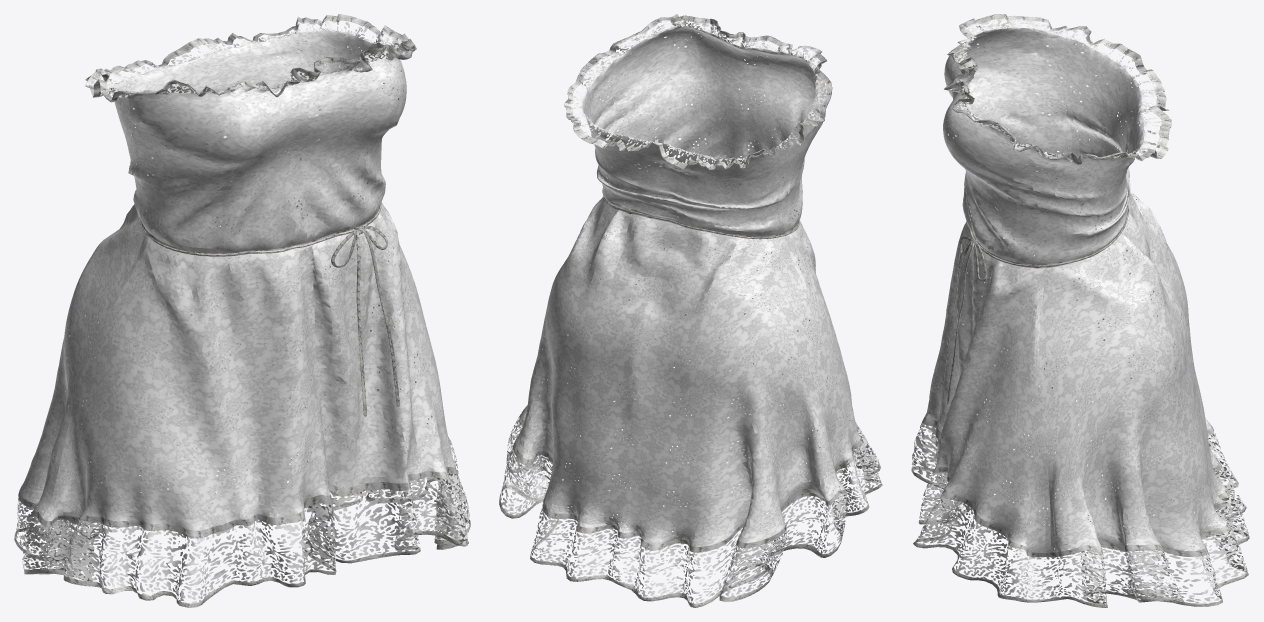
The model's file is elvs-crochet-baby-doll.glb.
3 renders of one model, left to right at view 1: azimuth 30°, elevation 25°; view 2: azimuth 150°, elevation 25°; view 3: azimuth 270°, elevation 25°, orthographic. The views are drawn at different scales.
Parts seen in each view (by area): view 1: crochet baby doll; view 2: crochet baby doll; view 3: crochet baby doll.
Boxes of the visible parts, x1,y1,x2,y2 form: crochet baby doll: (14,14,470,607); crochet baby doll: (499,14,882,607); crochet baby doll: (911,14,1249,607).
Size of the model in its own units: 48.54 by 63.54 by 39.02.
1 material, 1 textured.
